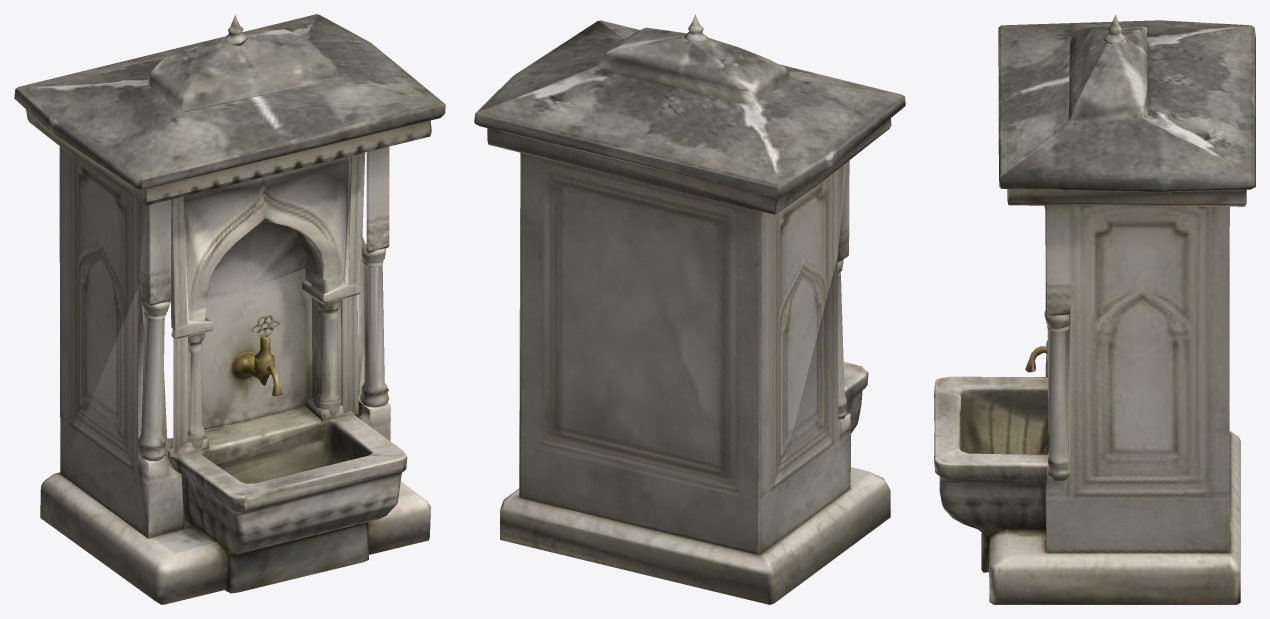
Rendered from kit_wall_fountain.glb.
3 renders of one model, left to right at view 1: azimuth 30°, elevation 25°; view 2: azimuth 150°, elevation 25°; view 3: azimuth 270°, elevation 25°, orthographic.
Parts seen in each view (by area): view 1: mesh_node; view 2: mesh_node; view 3: mesh_node.
Part boxes in pixels (bbox=[...]): mesh_node: bbox=[14, 14, 445, 604]; mesh_node: bbox=[474, 14, 905, 604]; mesh_node: bbox=[934, 14, 1255, 604].
Bounding box in the file's own units: 1.3 × 2 × 1.11.
Materials: 1 (1 with a texture image).
